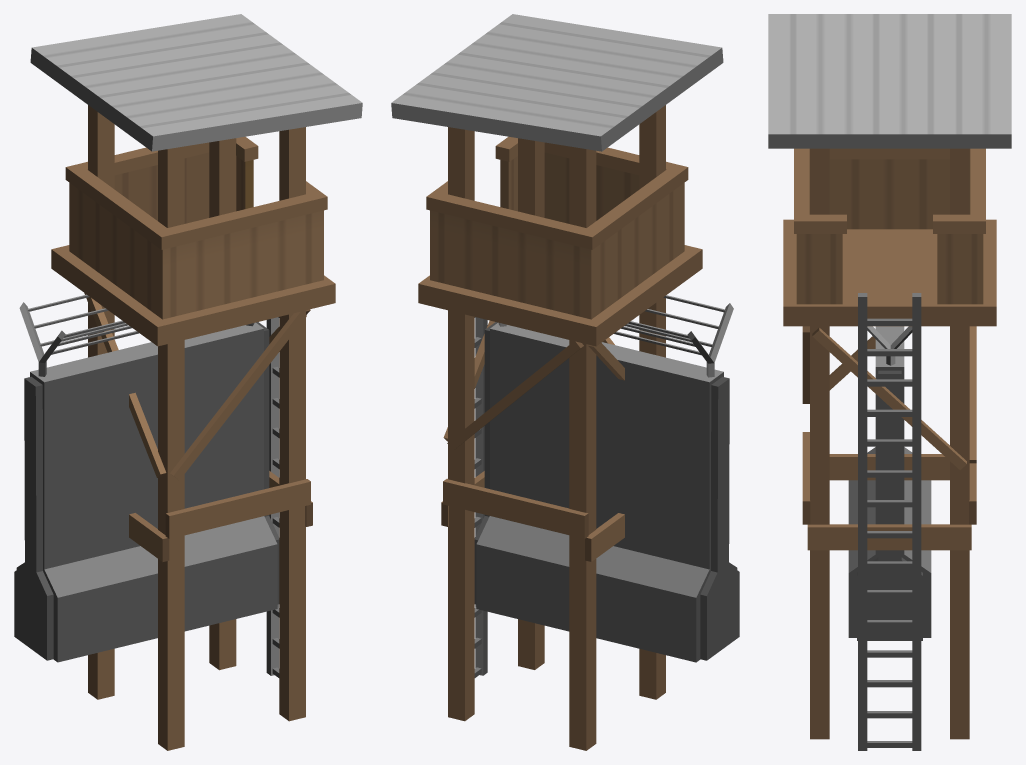
File: smallwall.gltf
The picture shows the model from 3 angles, left to right: view 1: azimuth 30°, elevation 25°; view 2: azimuth 150°, elevation 25°; view 3: azimuth 270°, elevation 25°; orthographic projection.
Parts seen in each view (by area): view 1: SM_Bld_GuardTower_01, SM_Prop_Wall_02; view 2: SM_Bld_GuardTower_01, SM_Prop_Wall_02; view 3: SM_Bld_GuardTower_01, SM_Prop_Wall_02.
Boxes of the visible parts, <box> form: SM_Bld_GuardTower_01: <box>30,14,362,750</box>; SM_Prop_Wall_02: <box>14,294,279,662</box>; SM_Bld_GuardTower_01: <box>391,14,723,750</box>; SM_Prop_Wall_02: <box>474,295,739,662</box>; SM_Bld_GuardTower_01: <box>768,14,1011,750</box>; SM_Prop_Wall_02: <box>848,326,931,640</box>.
Size of the model in its own units: 5.84 by 13.11 by 4.52.
Materials: 1 (1 with a texture image).
